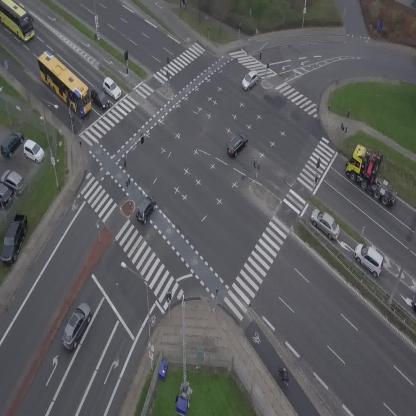bicycle: (277, 366, 293, 389), (68, 114, 75, 129)
bus: (29, 48, 101, 119)
car: (56, 300, 97, 353), (348, 239, 391, 280), (305, 205, 346, 243), (131, 192, 160, 225), (222, 130, 252, 159), (86, 85, 114, 112), (98, 76, 125, 101), (238, 68, 263, 92), (412, 292, 416, 313)
lorry: (337, 140, 413, 210)
